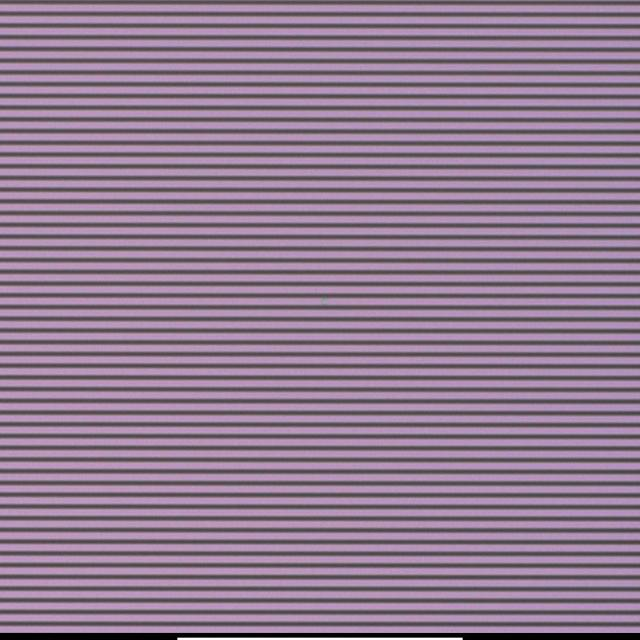nonvisual: (322, 293, 330, 306)
